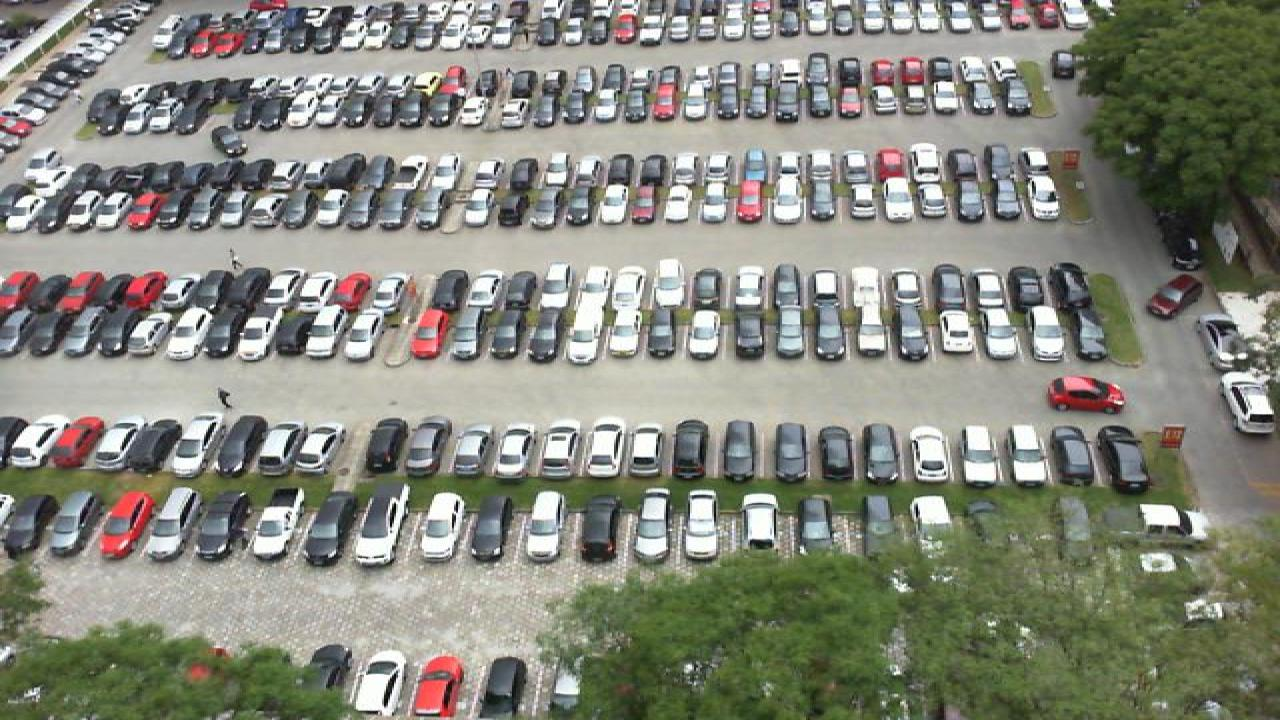Car: (352, 479, 408, 568), (348, 646, 412, 720), (146, 486, 206, 564), (246, 484, 304, 564), (300, 488, 356, 568), (192, 487, 250, 563), (408, 648, 468, 720), (60, 488, 118, 560), (98, 489, 156, 559), (408, 486, 460, 562), (26, 490, 80, 560), (476, 650, 530, 720), (520, 487, 568, 563), (1222, 369, 1278, 434), (1100, 423, 1150, 495), (1044, 374, 1130, 415), (468, 488, 516, 560), (630, 485, 676, 560), (6, 416, 70, 469), (1046, 423, 1098, 488), (574, 491, 620, 564), (214, 412, 266, 476), (994, 423, 1046, 486), (680, 488, 722, 565), (1146, 270, 1208, 321), (668, 417, 714, 484), (738, 489, 784, 556), (128, 416, 180, 475), (1136, 501, 1210, 542), (50, 415, 104, 470), (174, 412, 224, 471), (362, 415, 410, 476), (768, 419, 814, 482), (406, 415, 452, 477), (792, 494, 836, 558), (1198, 314, 1252, 366), (448, 423, 496, 480), (908, 424, 952, 486), (580, 419, 624, 481), (534, 422, 580, 481), (250, 420, 302, 472), (858, 421, 900, 485), (718, 419, 760, 483), (620, 420, 664, 481), (812, 420, 854, 483), (92, 420, 140, 474), (956, 424, 998, 484), (294, 422, 344, 470), (492, 423, 534, 480), (910, 492, 956, 544), (856, 492, 894, 546), (0, 492, 24, 554)
